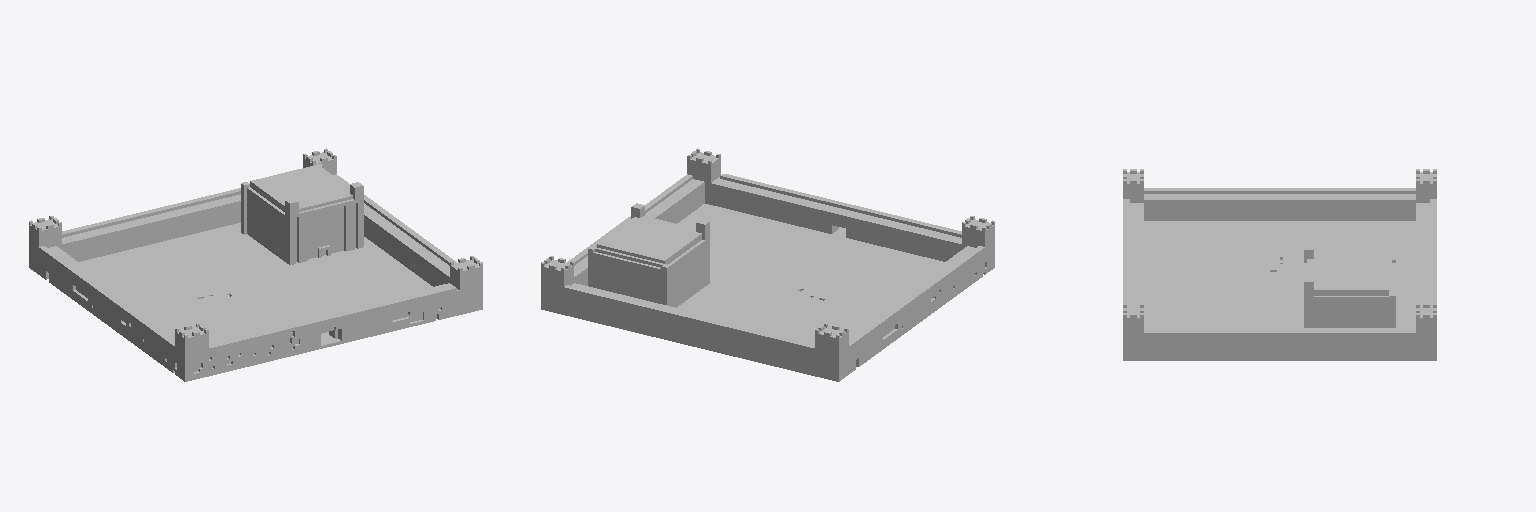
Rendered from fort t1.obj.
3 renders of one model, left to right at view 1: azimuth 30°, elevation 25°; view 2: azimuth 150°, elevation 25°; view 3: azimuth 270°, elevation 25°, orthographic.
Visible parts, largest first — view 1: object 1; view 2: object 1; view 3: object 1.
Part boxes in pixels (x1,y1,x2,y2): object 1: (29, 148, 482, 381); object 1: (541, 148, 994, 381); object 1: (1123, 169, 1436, 360).
Bounding box in the file's own units: 10.1 × 2.1 × 9.2.